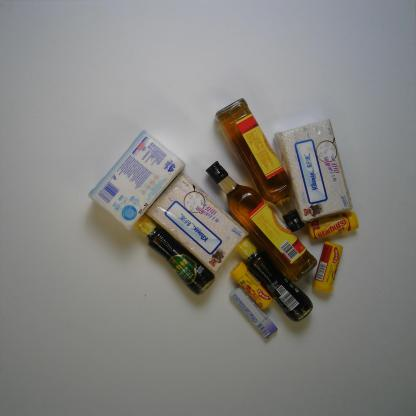Candy: (228, 286, 279, 343), (224, 259, 276, 312), (312, 241, 344, 299), (306, 210, 360, 241)
Seasoner: (204, 160, 320, 286), (214, 96, 309, 234), (132, 212, 219, 297), (232, 236, 315, 325)
Tissue: (145, 171, 251, 276), (86, 127, 187, 233), (274, 118, 354, 226)
